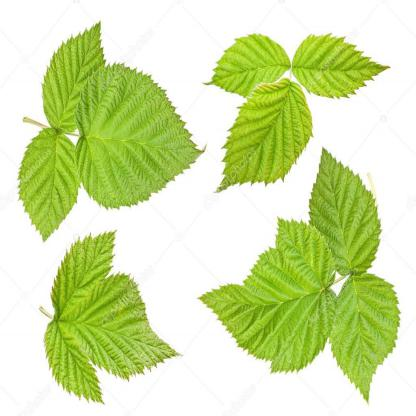raspberry leaf: (197, 215, 336, 375), (76, 62, 205, 210), (66, 272, 182, 381), (214, 78, 314, 193), (330, 268, 401, 409), (308, 147, 382, 278), (42, 19, 109, 132), (16, 128, 80, 244), (290, 31, 390, 100), (48, 229, 118, 322), (202, 31, 291, 100), (40, 321, 107, 404)
